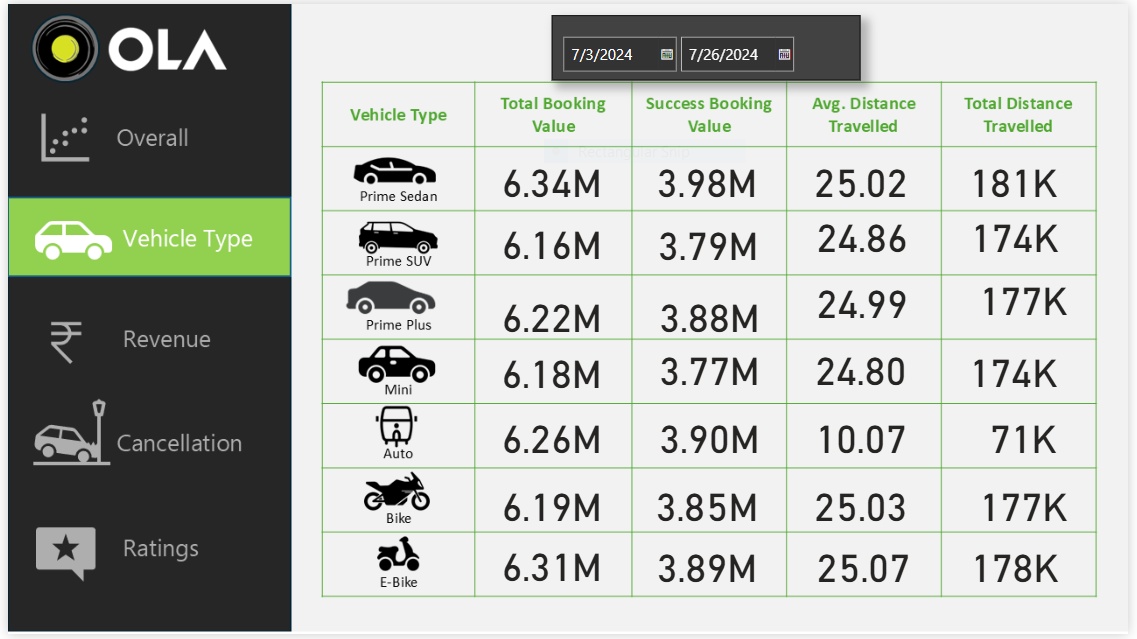

The dashboard page shown, as its layout file describes it:
{"tool":"powerbi","page":{"name":"Vehicle Type","canvas":[1280,720],"ordinal":1},"visuals":[{"type":"actionButton","box":[0,338.6,325.7,92.9],"z":0},{"type":"actionButton","box":[0,445.7,325.7,92.9],"z":1000},{"type":"actionButton","box":[0,577.1,325.7,92.9],"z":2000},{"type":"actionButton","box":[0,107.1,325.7,92.9],"z":3000},{"type":"card","fields":{"Values":["Sum(July (2).Booking_Value)"]},"box":[547.5,168.8,148.8,62.5],"z":4000},{"type":"card","fields":{"Values":["Sum(July (2).Booking_Value)"]},"box":[547.5,240,148.8,62.5],"z":5000},{"type":"card","fields":{"Values":["Sum(July (2).Booking_Value)"]},"box":[547.5,322.5,148.8,62.5],"z":6000},{"type":"card","fields":{"Values":["Sum(July (2).Booking_Value)"]},"box":[547.5,387,148.2,61.7],"z":7000},{"type":"card","fields":{"Values":["Sum(July (2).Booking_Value)"]},"box":[547.5,461.2,148.8,62.5],"z":8000},{"type":"card","fields":{"Values":["Sum(July (2).Booking_Value)"]},"box":[547.5,538.8,148.8,62.5],"z":9000},{"type":"card","fields":{"Values":["Sum(July (2).Booking_Value)"]},"box":[547.5,607.5,148.8,62.5],"z":10000},{"type":"card","fields":{"Values":["Sum(July (2).Booking_Value)"]},"box":[724.5,168.8,149.6,63.1],"z":11000},{"type":"card","fields":{"Values":["Sum(July (2).Booking_Value)"]},"box":[725.9,240.1,149.6,63.1],"z":12000},{"type":"card","fields":{"Values":["Sum(July (2).Booking_Value)"]},"box":[727.3,322.5,149.6,63.1],"z":13000},{"type":"card","fields":{"Values":["Sum(July (2).Booking_Value)"]},"box":[727.3,382.8,149.6,63.1],"z":14000},{"type":"card","fields":{"Values":["Sum(July (2).Booking_Value)"]},"box":[727.3,461.1,149.6,63.1],"z":15000},{"type":"card","fields":{"Values":["Sum(July (2).Booking_Value)"]},"box":[724.5,539.3,149.6,63.1],"z":16000},{"type":"card","fields":{"Values":["Sum(July (2).Booking_Value)"]},"box":[724.5,607.9,149.6,63.1],"z":17000},{"type":"card","fields":{"Values":["Avg(July (2).Ride_Distance)"]},"box":[900.2,168.8,149.6,63.1],"z":18000},{"type":"card","fields":{"Values":["Avg(July (2).Ride_Distance)"]},"box":[901.5,231.9,149.6,63.1],"z":19000},{"type":"card","fields":{"Values":["Avg(July (2).Ride_Distance)"]},"box":[901.5,307.4,149.6,63.1],"z":20000},{"type":"card","fields":{"Values":["Avg(July (2).Ride_Distance)"]},"box":[900.2,382.8,149.6,63.1],"z":21000},{"type":"card","fields":{"Values":["Avg(July (2).Ride_Distance)"]},"box":[900.2,461.1,149.6,63.1],"z":22000},{"type":"card","fields":{"Values":["Avg(July (2).Ride_Distance)"]},"box":[900.2,537.9,149.6,63.1],"z":23000},{"type":"card","fields":{"Values":["Avg(July (2).Ride_Distance)"]},"box":[902.9,607.9,149.6,63.1],"z":24000},{"type":"card","fields":{"Values":["Sum(July (2).Ride_Distance)"]},"box":[1074.4,168.8,149.6,63.1],"z":25000},{"type":"card","fields":{"Values":["Sum(July (2).Ride_Distance)"]},"box":[1075.8,231.9,149.6,63.1],"z":26000},{"type":"card","fields":{"Values":["Sum(July (2).Ride_Distance)"]},"box":[1085.4,303.3,149.6,63.1],"z":27000},{"type":"card","fields":{"Values":["Sum(July (2).Ride_Distance)"]},"box":[1074.4,385.6,149.6,63.1],"z":28000},{"type":"card","fields":{"Values":["Sum(July (2).Ride_Distance)"]},"box":[1085.4,461.1,149.6,63.1],"z":29000},{"type":"card","fields":{"Values":["Sum(July (2).Ride_Distance)"]},"box":[1085.4,539.3,149.6,63.1],"z":30000},{"type":"card","fields":{"Values":["Sum(July (2).Ride_Distance)"]},"box":[1075.8,607.9,149.6,63.1],"z":31000},{"type":"slicer","title":"Date","fields":{"Values":["July (2).Date"]},"box":[621.6,12.3,352.7,74.1],"z":32000}]}

Visuals, with their boxes in screenshot pixels (x1, y1, x2, y2), scaled from the page's 1280x720 canvas onto the 1137x639 screenshot:
actionButton: [x1=0, y1=301, x2=289, y2=383]
actionButton: [x1=0, y1=396, x2=289, y2=478]
actionButton: [x1=0, y1=512, x2=289, y2=595]
actionButton: [x1=0, y1=95, x2=289, y2=178]
card - Sum(July (2).Booking_Value): [x1=486, y1=150, x2=619, y2=205]
card - Sum(July (2).Booking_Value): [x1=486, y1=213, x2=619, y2=268]
card - Sum(July (2).Booking_Value): [x1=486, y1=286, x2=619, y2=342]
card - Sum(July (2).Booking_Value): [x1=486, y1=343, x2=618, y2=398]
card - Sum(July (2).Booking_Value): [x1=486, y1=409, x2=619, y2=465]
card - Sum(July (2).Booking_Value): [x1=486, y1=478, x2=619, y2=534]
card - Sum(July (2).Booking_Value): [x1=486, y1=539, x2=619, y2=595]
card - Sum(July (2).Booking_Value): [x1=644, y1=150, x2=776, y2=206]
card - Sum(July (2).Booking_Value): [x1=645, y1=213, x2=778, y2=269]
card - Sum(July (2).Booking_Value): [x1=646, y1=286, x2=779, y2=342]
card - Sum(July (2).Booking_Value): [x1=646, y1=340, x2=779, y2=396]
card - Sum(July (2).Booking_Value): [x1=646, y1=409, x2=779, y2=465]
card - Sum(July (2).Booking_Value): [x1=644, y1=479, x2=776, y2=535]
card - Sum(July (2).Booking_Value): [x1=644, y1=540, x2=776, y2=596]
card - Avg(July (2).Ride_Distance): [x1=800, y1=150, x2=933, y2=206]
card - Avg(July (2).Ride_Distance): [x1=801, y1=206, x2=934, y2=262]
card - Avg(July (2).Ride_Distance): [x1=801, y1=273, x2=934, y2=329]
card - Avg(July (2).Ride_Distance): [x1=800, y1=340, x2=933, y2=396]
card - Avg(July (2).Ride_Distance): [x1=800, y1=409, x2=933, y2=465]
card - Avg(July (2).Ride_Distance): [x1=800, y1=477, x2=933, y2=533]
card - Avg(July (2).Ride_Distance): [x1=802, y1=540, x2=935, y2=596]
card - Sum(July (2).Ride_Distance): [x1=954, y1=150, x2=1087, y2=206]
card - Sum(July (2).Ride_Distance): [x1=956, y1=206, x2=1088, y2=262]
card - Sum(July (2).Ride_Distance): [x1=964, y1=269, x2=1097, y2=325]
card - Sum(July (2).Ride_Distance): [x1=954, y1=342, x2=1087, y2=398]
card - Sum(July (2).Ride_Distance): [x1=964, y1=409, x2=1097, y2=465]
card - Sum(July (2).Ride_Distance): [x1=964, y1=479, x2=1097, y2=535]
card - Sum(July (2).Ride_Distance): [x1=956, y1=540, x2=1088, y2=596]
"Date" slicer: [x1=552, y1=11, x2=865, y2=77]
